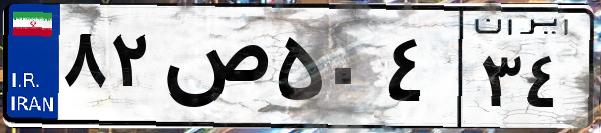0: (330, 28, 385, 110)
2: (110, 28, 158, 98)
3: (475, 38, 525, 113)
4: (385, 28, 445, 110), (525, 38, 570, 115)
5: (270, 28, 330, 110)
8: (57, 26, 110, 100)
ص: (158, 20, 270, 120)
